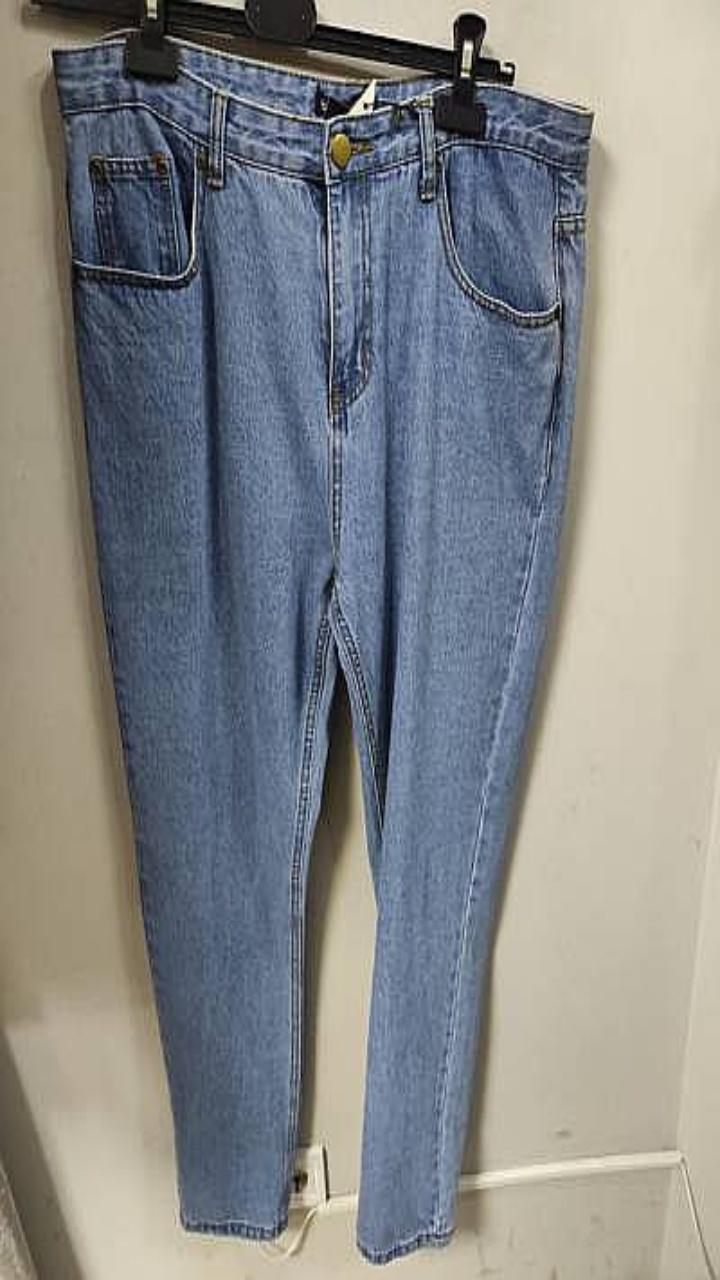Jeans: (54, 36, 592, 1262)
